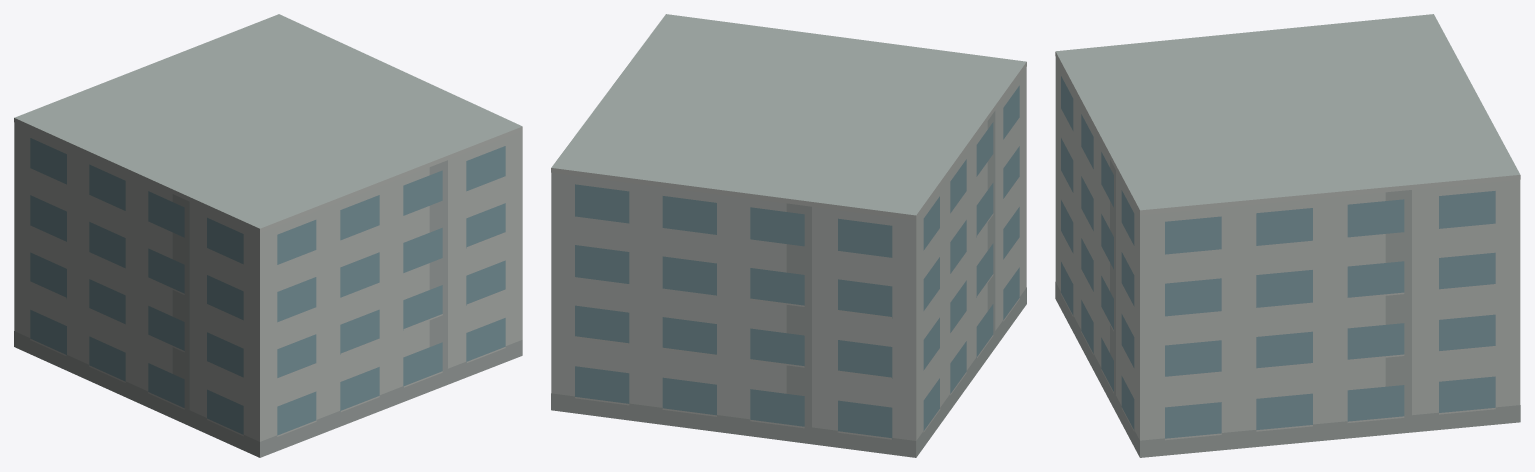
File: survey-upis-32623533.glb
3 renders of one model, left to right at view 1: azimuth 30°, elevation 25°; view 2: azimuth 150°, elevation 25°; view 3: azimuth 270°, elevation 25°, orthographic. The views are drawn at different scales.
Visible parts, largest first — view 1: survey-upis-32623533.tmp; view 2: survey-upis-32623533.tmp; view 3: survey-upis-32623533.tmp.
Boxes of the visible parts, x1,y1,x2,y2 form: survey-upis-32623533.tmp: [14, 14, 522, 457]; survey-upis-32623533.tmp: [551, 14, 1026, 457]; survey-upis-32623533.tmp: [1055, 14, 1520, 457].
Size of the model in its own units: 20.76 by 12.2 by 20.78.
